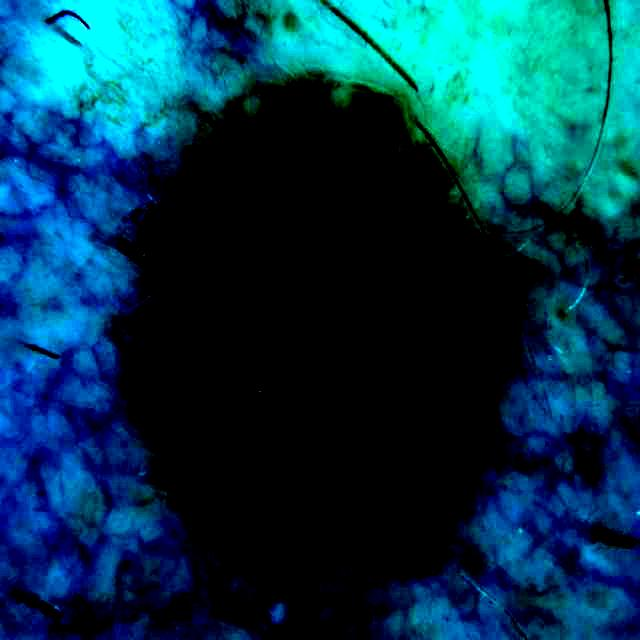BKL: (145, 81, 510, 541)
